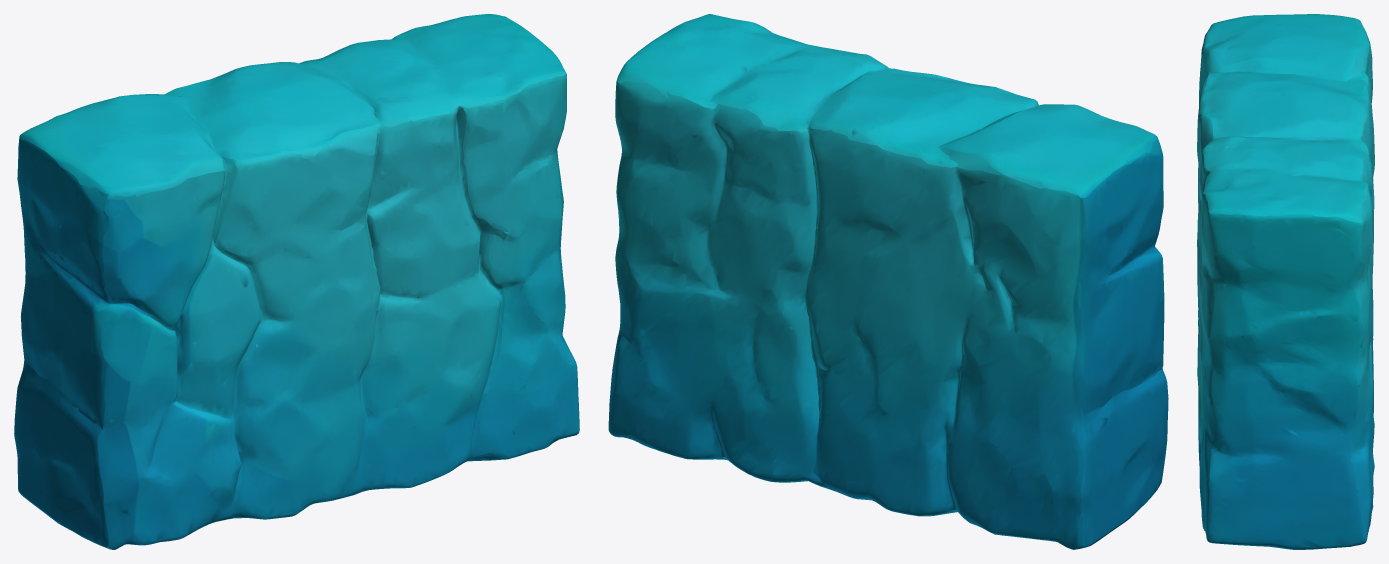
The model's file is Icewall.fbx.
3 renders of one model, left to right at view 1: azimuth 30°, elevation 25°; view 2: azimuth 150°, elevation 25°; view 3: azimuth 270°, elevation 25°, orthographic. The views are drawn at different scales.
Visible parts, largest first — view 1: textured_mesh; view 2: textured_mesh; view 3: textured_mesh.
Part boxes in pixels (box(x1,y1,x2,y2)): textured_mesh: box(14, 14, 579, 549); textured_mesh: box(608, 14, 1168, 549); textured_mesh: box(1197, 14, 1374, 549).
Bounding box in the file's own units: 199 × 151 × 70.77.
1 material, 1 textured.
